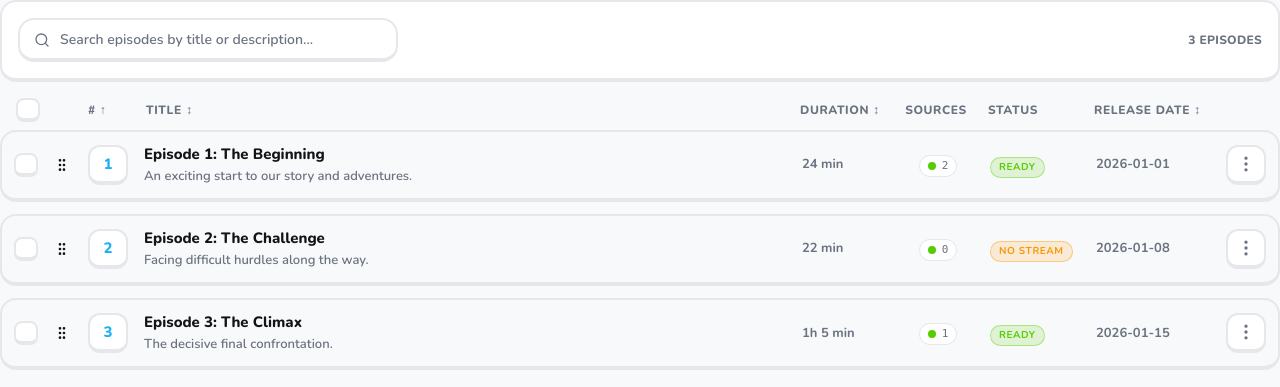
Test: EpisodeTable Component › disables drag-and-drop when multiple rows are selected
The width and height of the screenshot is (1280, 387).
Click the checkbox named "Select Episode 1: The Beginning". click: (26, 165)
box: left=14, top=153, right=38, bottom=177
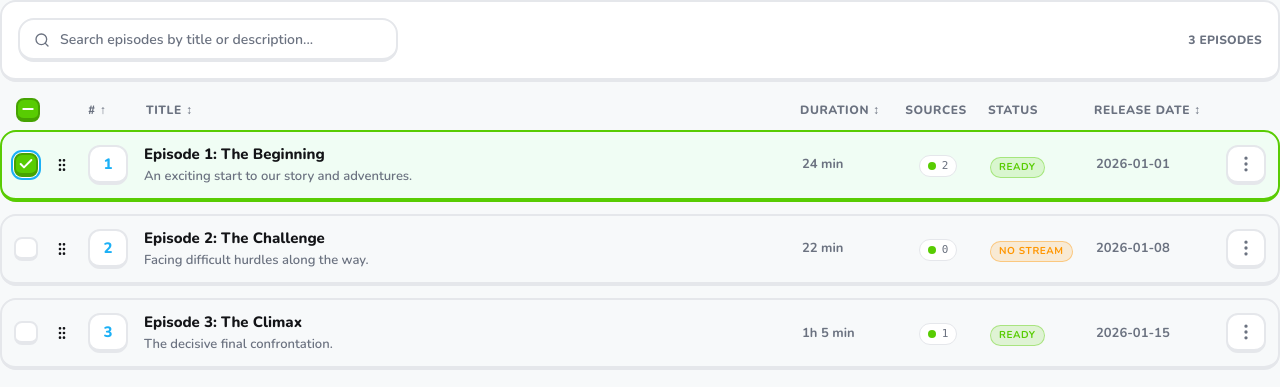
Click the checkbox named "Select Episode 2: The Challenge". click: (26, 249)
box: left=14, top=237, right=38, bottom=261
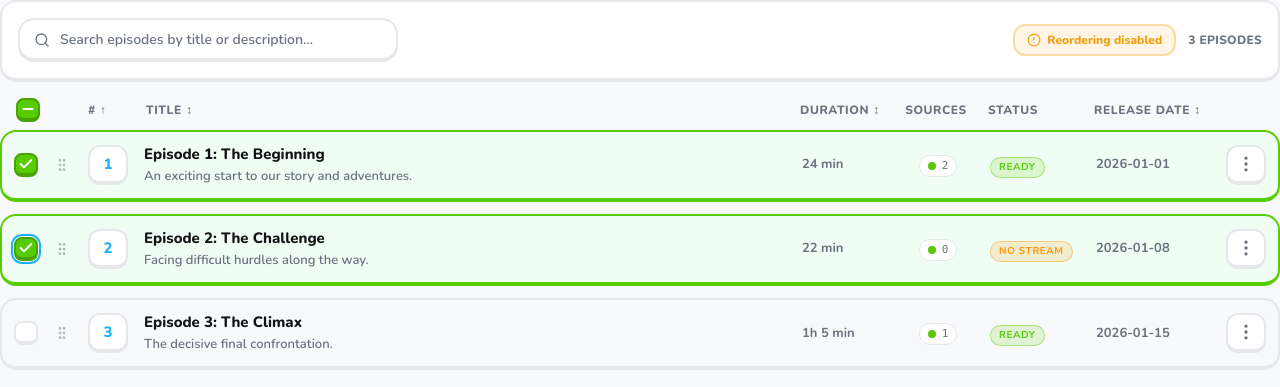
Now the text "Reordering disabled" is shown
Hover over the text "Reordering disabled" at (1105, 40), box left=1047, top=32, right=1162, bottom=48
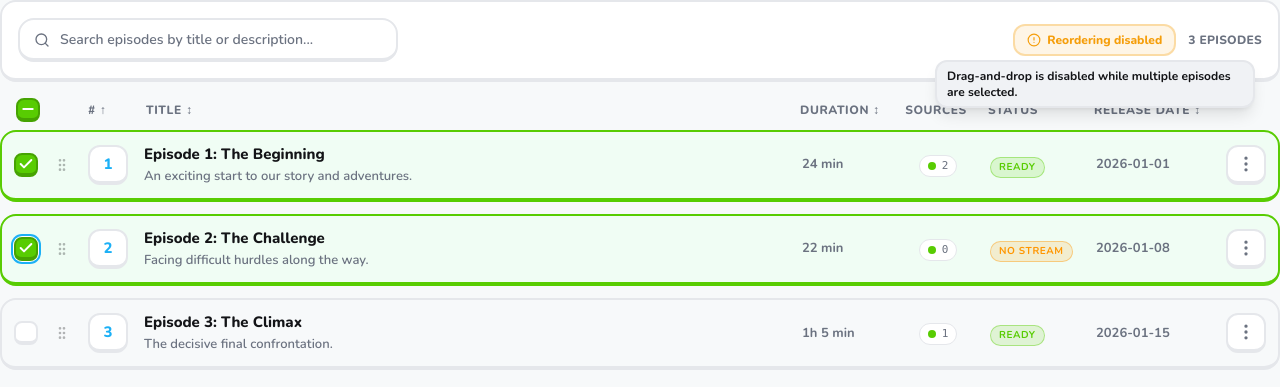
Now the tooltip shows "multiple episodes are selected", box left=947, top=68, right=1231, bottom=100
